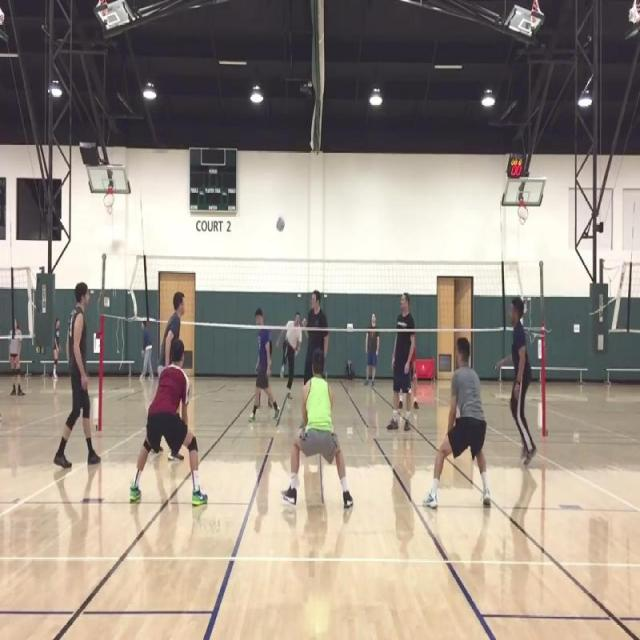volleyball: (276, 216, 284, 230)
